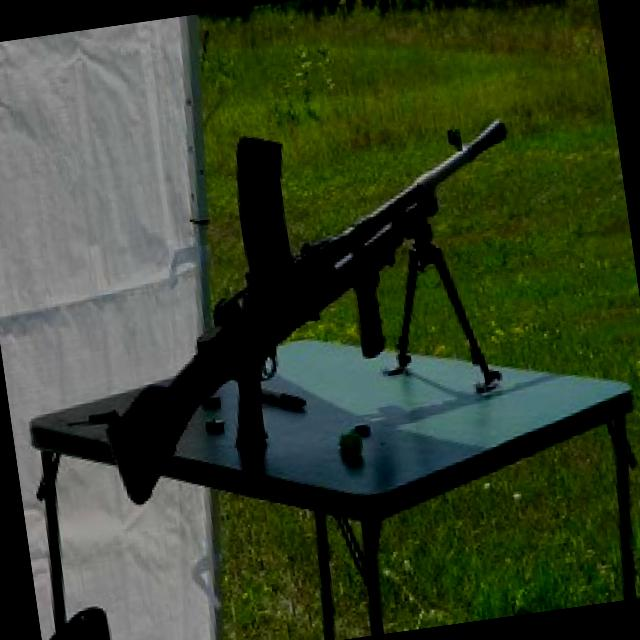long weapon: (55, 106, 560, 505)
